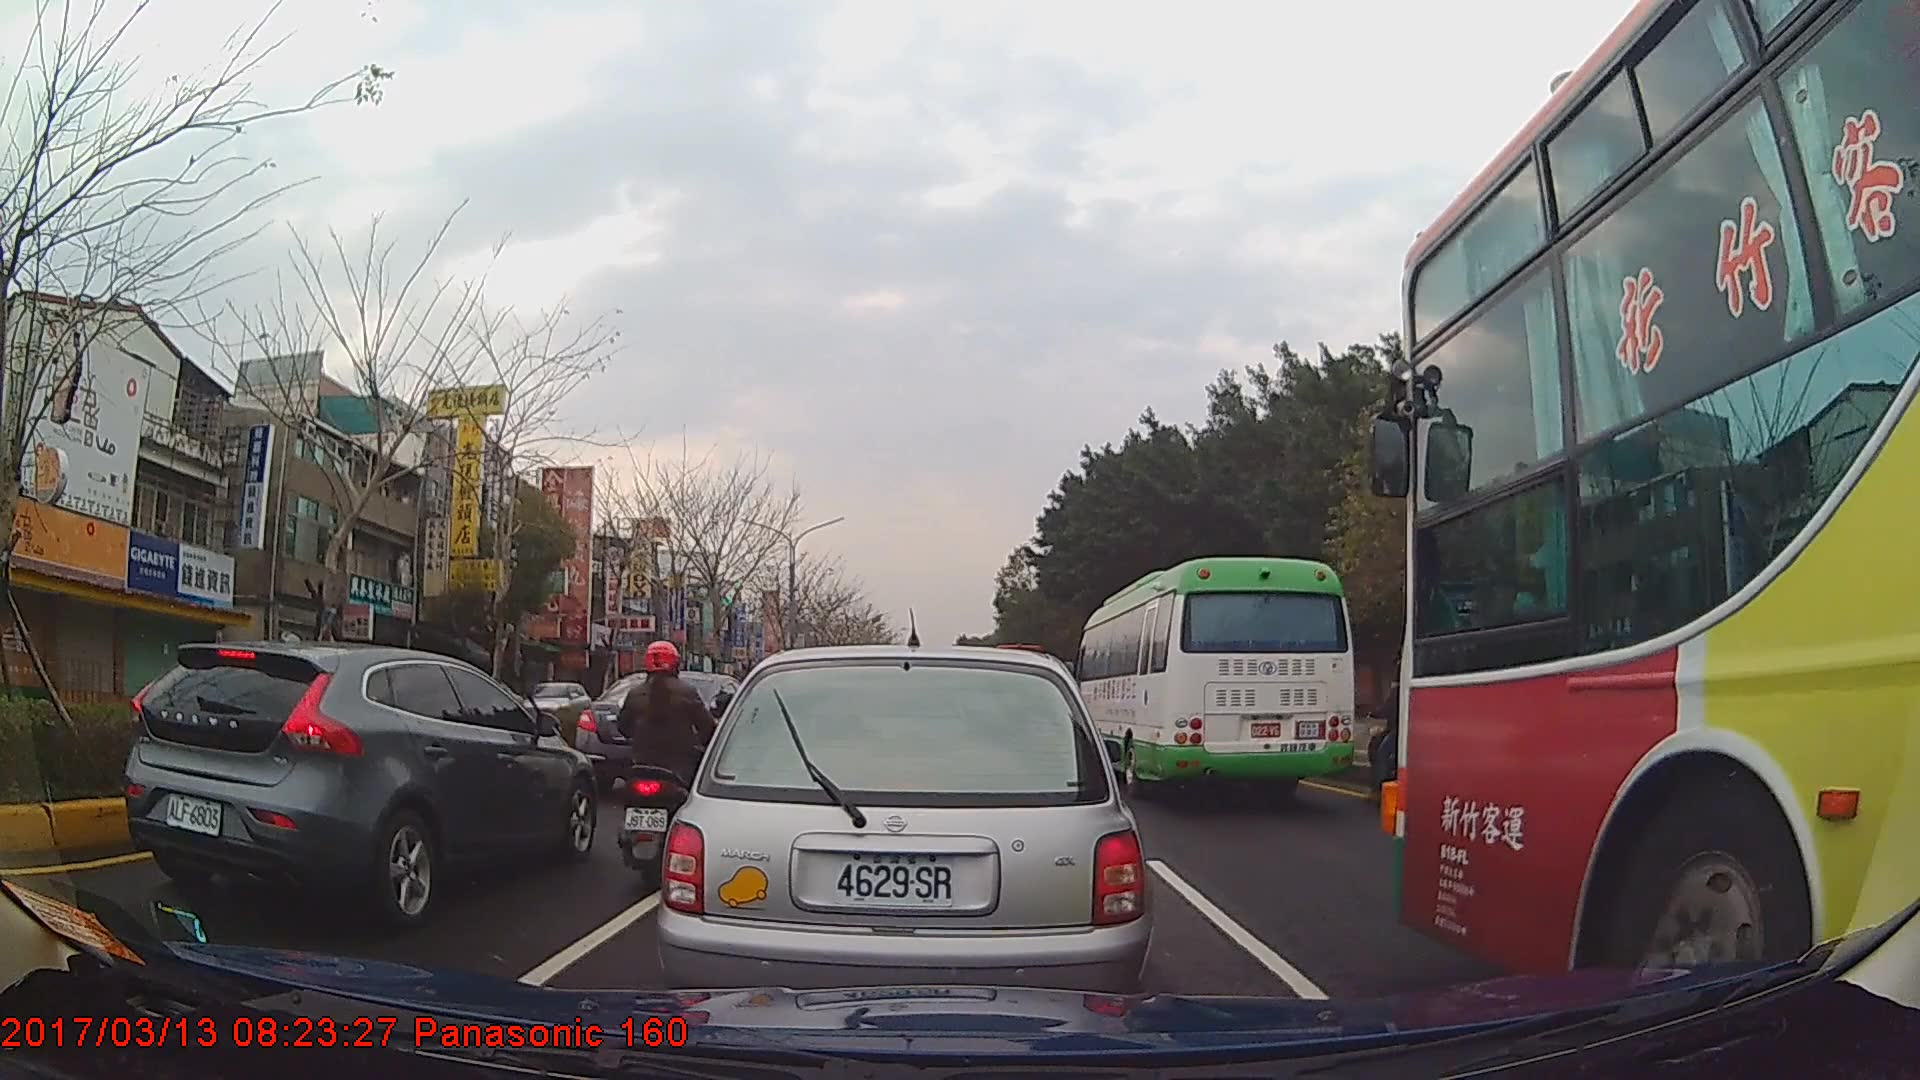rider: (614, 636, 728, 878)
vehicle: (1396, 0, 1920, 1020), (654, 639, 1152, 1029), (121, 639, 594, 930), (1071, 553, 1354, 801), (577, 668, 762, 789), (520, 681, 589, 728)
